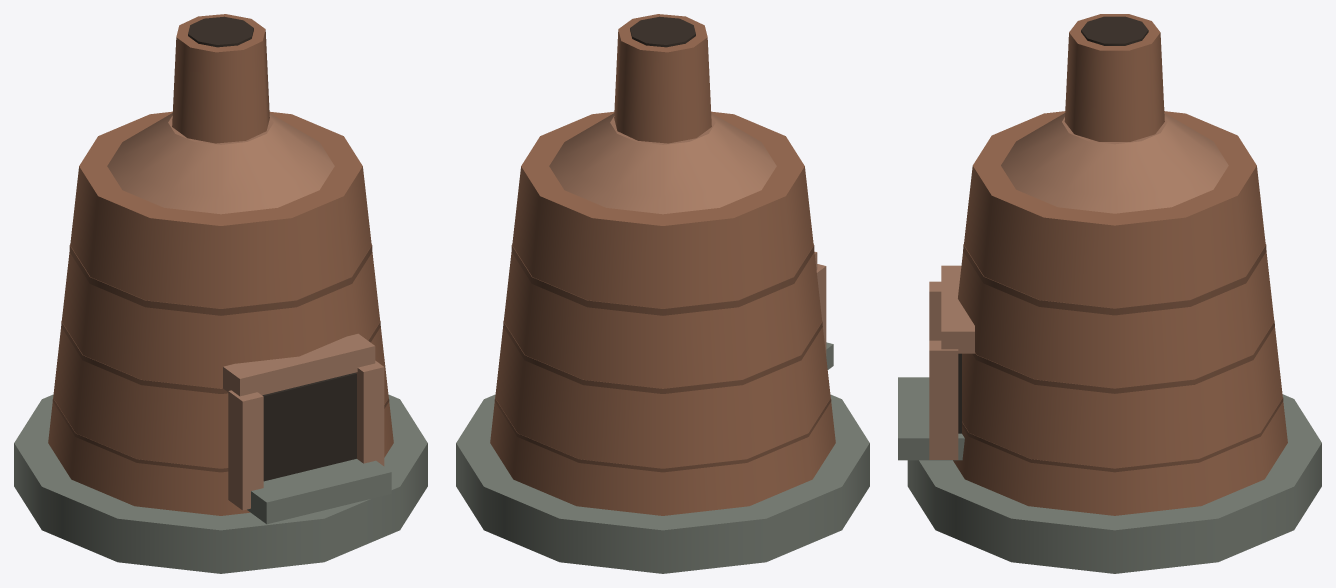
Rendered from Stations_Kiln.glb.
The picture shows the model from 3 angles, left to right: view 1: azimuth 30°, elevation 25°; view 2: azimuth 150°, elevation 25°; view 3: azimuth 270°, elevation 25°; orthographic projection.
Visible parts, largest first — view 1: _MeshInstance3D_4227, _MeshInstance3D_4226, _MeshInstance3D_4228, _MeshInstance3D_4229, _MeshInstance3D_4231, _MeshInstance3D_4232, _MeshInstance3D_4235, _MeshInstance3D_4233, _MeshInstance3D_4234, _MeshInstance3D_4238, _MeshInstance3D_4230, _MeshInstance3D_4237 (+1 smaller); view 2: _MeshInstance3D_4227, _MeshInstance3D_4226, _MeshInstance3D_4228, _MeshInstance3D_4229, _MeshInstance3D_4238, _MeshInstance3D_4237, _MeshInstance3D_4230, _MeshInstance3D_4236, _MeshInstance3D_4233; view 3: _MeshInstance3D_4227, _MeshInstance3D_4226, _MeshInstance3D_4228, _MeshInstance3D_4229, _MeshInstance3D_4234, _MeshInstance3D_4232, _MeshInstance3D_4238, _MeshInstance3D_4235, _MeshInstance3D_4237, _MeshInstance3D_4230, _MeshInstance3D_4236, _MeshInstance3D_4233.
Boxes of the visible parts, box(x1,y1,x2,y2) form: _MeshInstance3D_4227: box(48, 111, 393, 515); _MeshInstance3D_4226: box(14, 394, 427, 573); _MeshInstance3D_4228: box(107, 113, 334, 214); _MeshInstance3D_4229: box(172, 14, 269, 143); _MeshInstance3D_4231: box(262, 372, 356, 481); _MeshInstance3D_4232: box(247, 459, 391, 524); _MeshInstance3D_4235: box(223, 333, 375, 396); _MeshInstance3D_4233: box(228, 390, 263, 510); _MeshInstance3D_4234: box(356, 360, 384, 466); _MeshInstance3D_4238: box(69, 244, 372, 315); _MeshInstance3D_4230: box(188, 16, 253, 47); _MeshInstance3D_4237: box(61, 321, 380, 393); _MeshInstance3D_4227: box(490, 111, 835, 515); _MeshInstance3D_4226: box(456, 394, 869, 573); _MeshInstance3D_4228: box(549, 113, 776, 214); _MeshInstance3D_4229: box(614, 14, 711, 143); _MeshInstance3D_4238: box(511, 244, 814, 315); _MeshInstance3D_4237: box(503, 321, 822, 393); _MeshInstance3D_4230: box(630, 16, 695, 47); _MeshInstance3D_4236: box(494, 397, 831, 472); _MeshInstance3D_4233: box(816, 264, 826, 355); _MeshInstance3D_4227: box(953, 111, 1287, 515); _MeshInstance3D_4226: box(907, 394, 1321, 573); _MeshInstance3D_4228: box(1001, 113, 1228, 213); _MeshInstance3D_4229: box(1064, 14, 1164, 141); _MeshInstance3D_4234: box(929, 340, 958, 459); _MeshInstance3D_4232: box(898, 377, 964, 460); _MeshInstance3D_4238: box(963, 244, 1266, 315); _MeshInstance3D_4235: box(941, 265, 974, 353); _MeshInstance3D_4237: box(972, 321, 1274, 393); _MeshInstance3D_4230: box(1081, 16, 1148, 45); _MeshInstance3D_4236: box(962, 397, 1283, 472); _MeshInstance3D_4233: box(929, 281, 941, 340).
Size of the model in its own units: 1.72 by 2.09 by 1.76.
